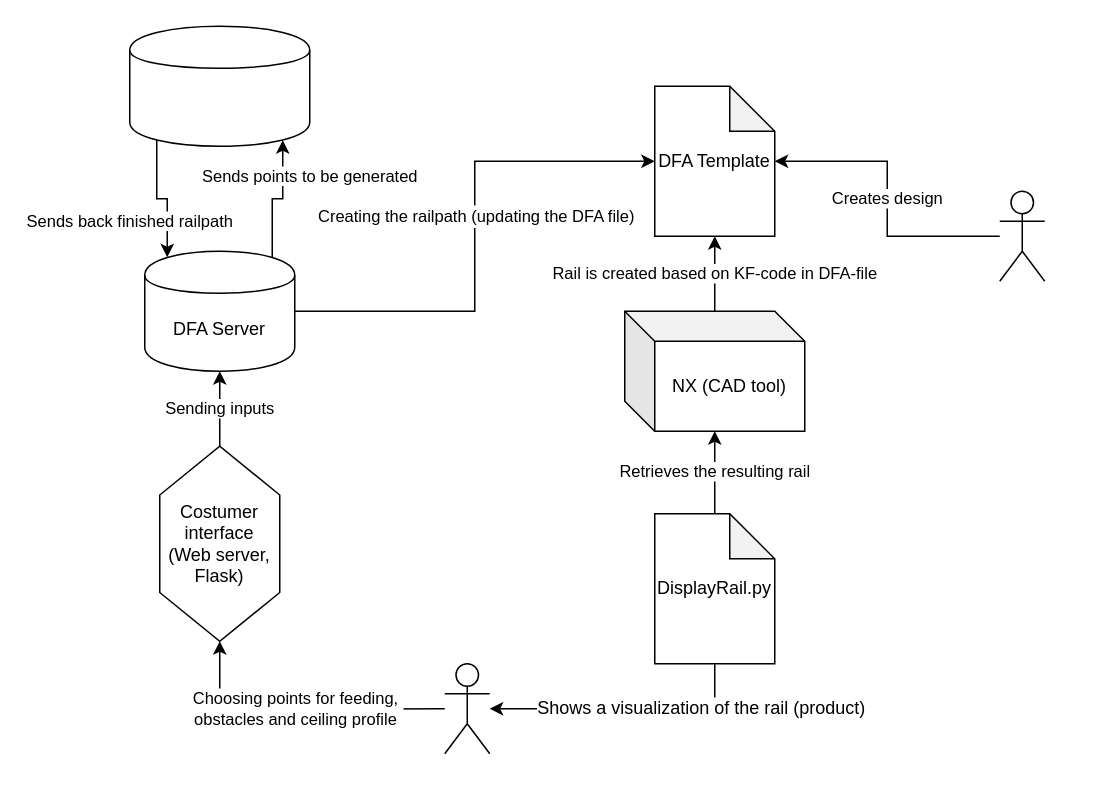
This 1118x812 diagram has some shape labels left out. Here are the shapes that lost their labels. From the top down, the centre of each, then its label:
point (219, 85): Path Planner
point (1021, 235): Product Designer
point (466, 708): Costumer
